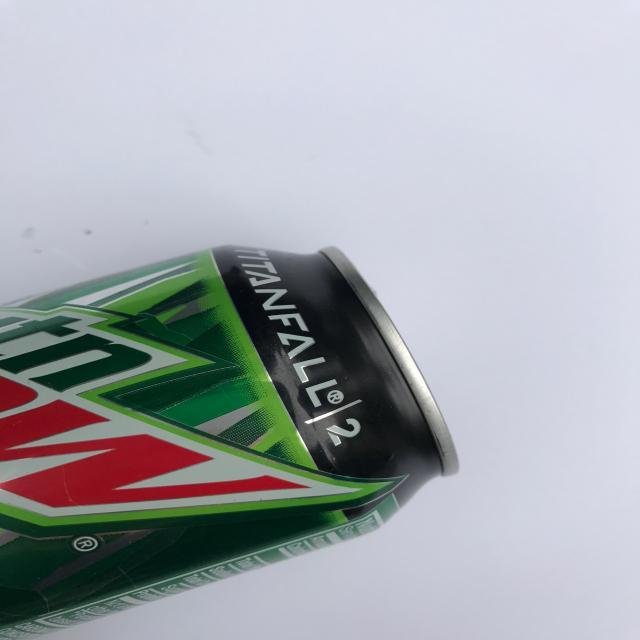metal: (2, 244, 459, 640)
